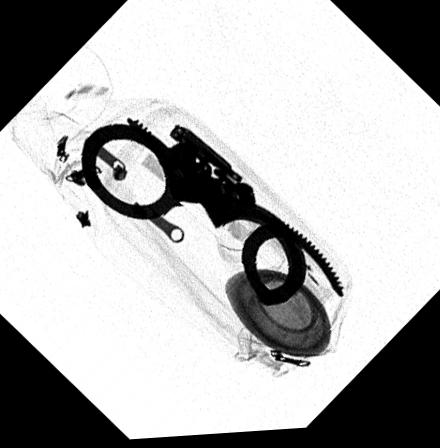HandCuffs: (79, 118, 344, 311)
